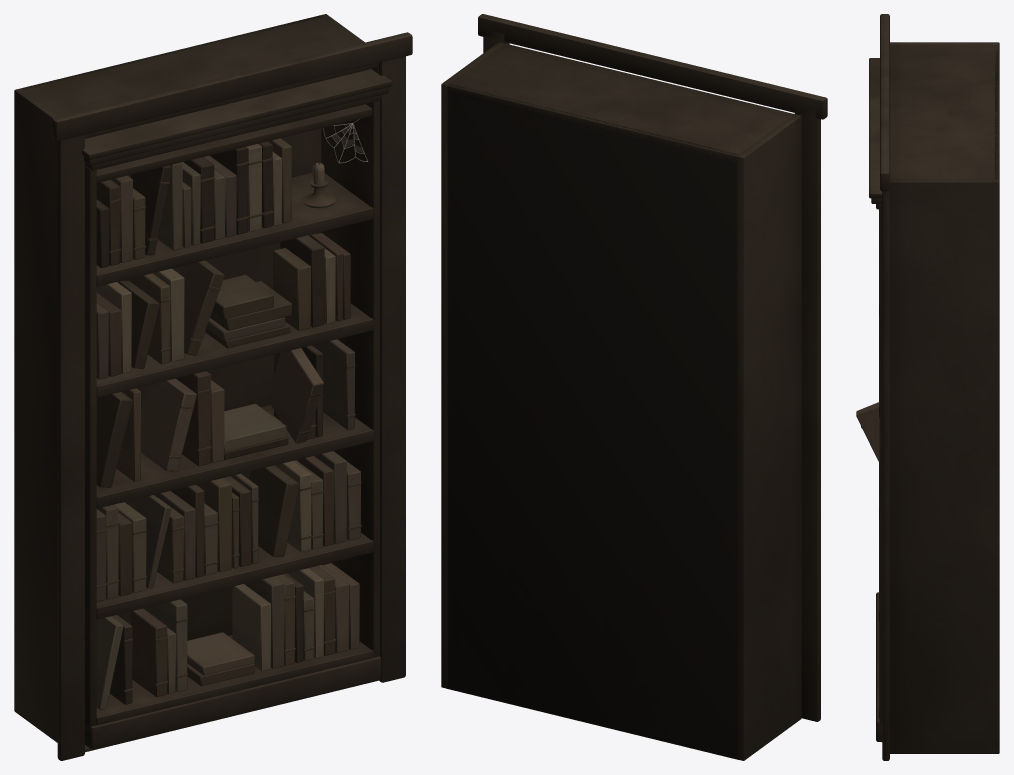
File: secret-bookcase-door.glb
3 views of the same model, side by side, from view 1: azimuth 30°, elevation 25°; view 2: azimuth 150°, elevation 25°; view 3: azimuth 270°, elevation 25° (orthographic). The views are drawn at different scales.
Parts seen in each view (by area): view 1: secret-bookcase-door_door, secret-bookcase-door_body; view 2: secret-bookcase-door_body; view 3: secret-bookcase-door_body, secret-bookcase-door_door.
Boxes of the visible parts, x1,y1,x2,y2 form: secret-bookcase-door_door: (82,69,392,749); secret-bookcase-door_body: (14,14,412,760); secret-bookcase-door_body: (441,14,827,760); secret-bookcase-door_body: (880,14,999,760); secret-bookcase-door_door: (856,58,882,742).
Bounding box in the file's own units: 1.28 × 2.2 × 0.4836.
Materials: 4 (2 with a texture image).
